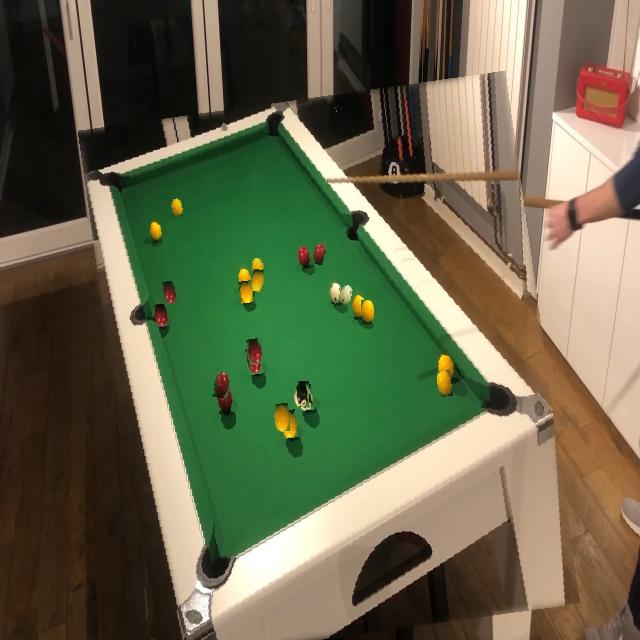Ball: (247, 338, 265, 365), (213, 371, 230, 399), (274, 404, 289, 432), (437, 371, 453, 397), (294, 381, 309, 407), (250, 270, 265, 292), (163, 281, 177, 304), (361, 300, 374, 324), (339, 284, 353, 306), (314, 243, 326, 265), (251, 258, 265, 275), (170, 199, 182, 217)
Billiard table: (95, 84, 562, 640)
